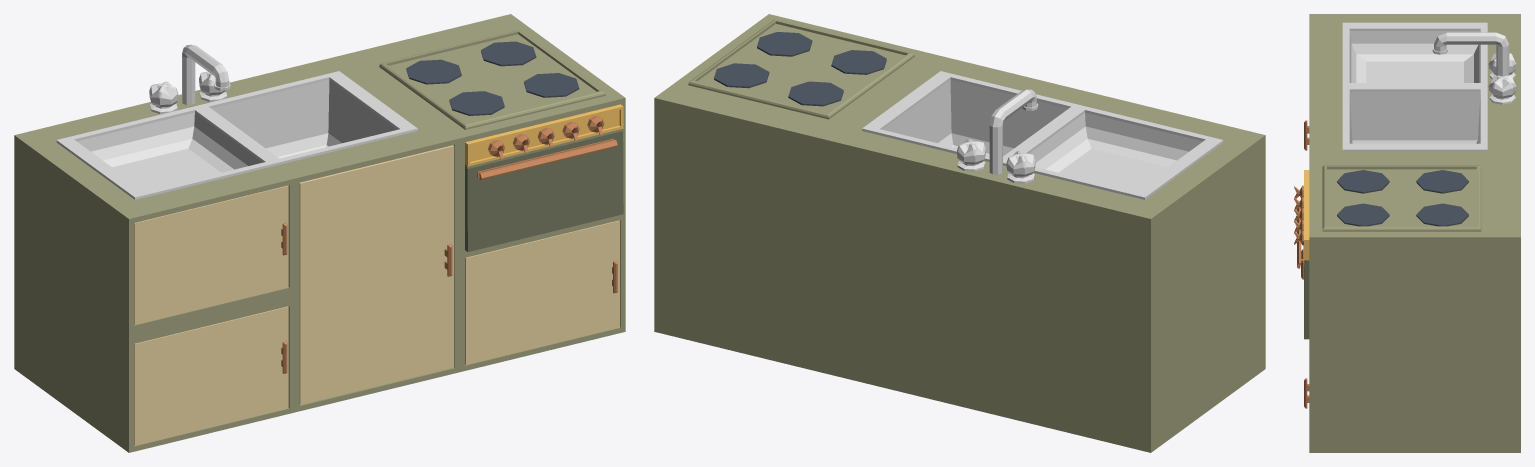
The model's file is KitchenBench.fbx.
3 views of the same model, side by side, from view 1: azimuth 30°, elevation 25°; view 2: azimuth 150°, elevation 25°; view 3: azimuth 270°, elevation 25° (orthographic). The views are drawn at different scales.
Parts seen in each view (by area): view 1: kitchenetteBench, kitchenetteDoors, sink, kitchenetteDoors.001, kitchenetteDoors.002, kitchenetteDoors.003, kitchenetteOvenDoor, stoveHotPlate, kitchenetteOven, sinkTap, sinkTapHandle, kitchenOvenHandle (+1 smaller); view 2: kitchenetteBench, sink, stoveHotPlate, sinkTapHandle, sinkTap; view 3: kitchenetteBench, sink, stoveHotPlate, sinkTap, sinkTapHandle, kitchenetteOven, kitchenetteOvenDoor, kitchenetteOvenKnob.
Boxes of the visible parts, x1,y1,x2,y2 form: kitchenetteBench: (14,14,625,452); kitchenetteDoors: (299,145,454,404); sink: (56,71,417,199); kitchenetteDoors.001: (465,220,619,364); kitchenetteDoors.002: (134,306,288,445); kitchenetteDoors.003: (134,185,288,324); kitchenetteOvenDoor: (465,129,623,251); stoveHotPlate: (406,41,579,115); kitchenetteOven: (465,104,623,166); sinkTap: (182,44,230,104); sinkTapHandle: (149,71,227,113); kitchenOvenHandle: (477,138,617,179); kitchenetteBench: (654,14,1265,452); sink: (862,71,1223,199); stoveHotPlate: (714,32,886,106); sinkTapHandle: (957,139,1035,183); sinkTap: (989,89,1038,174); kitchenetteBench: (1309,14,1520,452); sink: (1342,22,1487,151); stoveHotPlate: (1337,170,1468,226); sinkTap: (1432,32,1509,76); sinkTapHandle: (1488,53,1516,104); kitchenetteOven: (1304,170,1309,260); kitchenetteOvenDoor: (1304,260,1309,339); kitchenetteOvenKnob: (1294,185,1303,245).
Size of the model in its own units: 0.8577 by 2 by 1.13.
